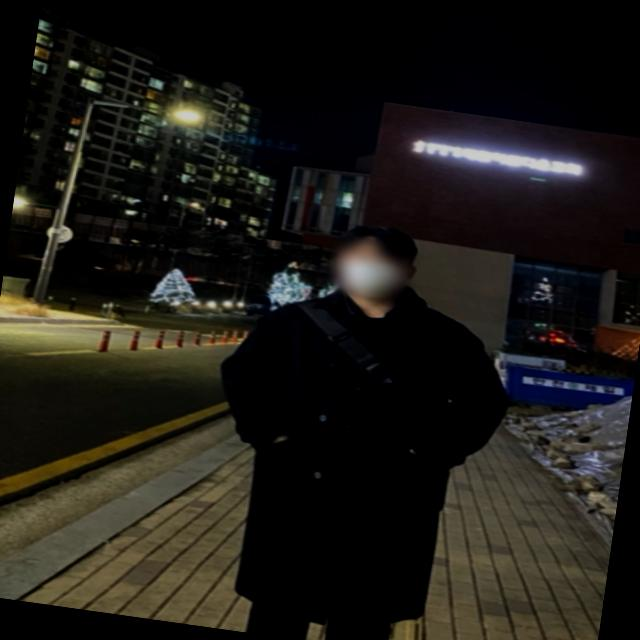coat: (188, 263, 524, 640)
